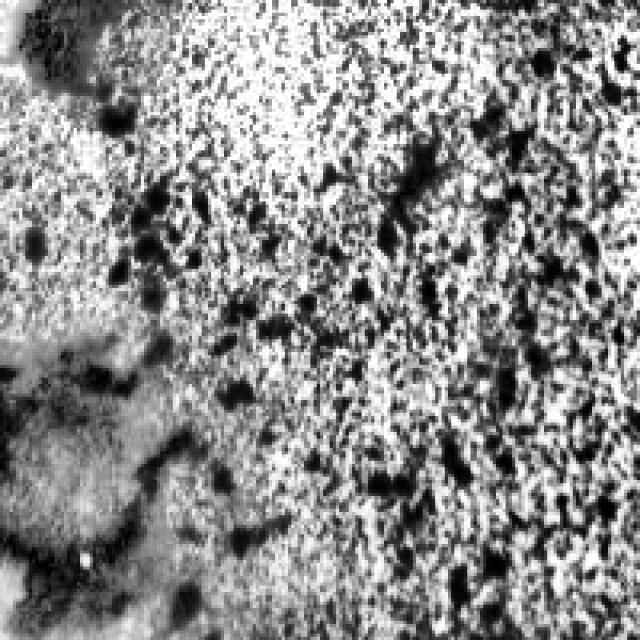Rolled_in_Scale: (160, 16, 627, 499)
Scratches: (0, 330, 186, 634), (9, 0, 102, 93)
